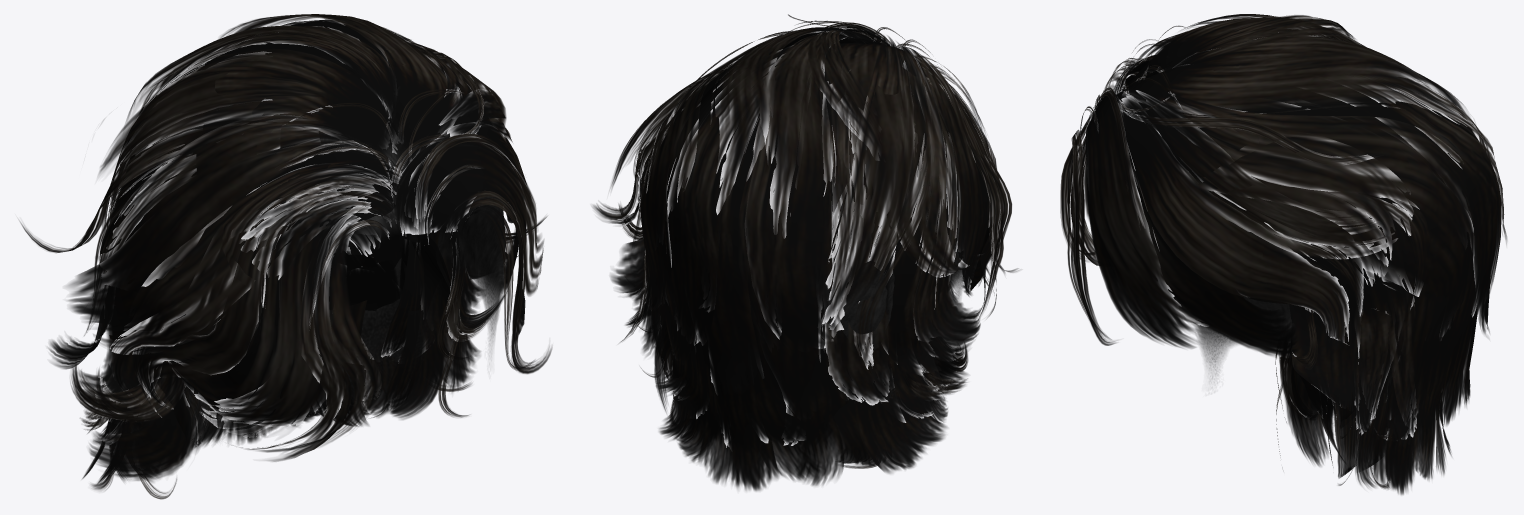
Rendered from layered-2.glb.
The picture shows the model from 3 angles, left to right: view 1: azimuth 30°, elevation 25°; view 2: azimuth 150°, elevation 25°; view 3: azimuth 270°, elevation 25°; orthographic projection. The views are drawn at different scales.
Visible parts, largest first — view 1: LAYERED, SCALP LAYERED; view 2: LAYERED, SCALP LAYERED; view 3: LAYERED, SCALP LAYERED.
Part boxes in pixels (x1,y1,x2,y2): LAYERED: [19, 14, 552, 499]; SCALP LAYERED: [111, 100, 505, 437]; LAYERED: [592, 14, 1018, 491]; SCALP LAYERED: [664, 91, 963, 351]; LAYERED: [1060, 14, 1506, 494]; SCALP LAYERED: [1193, 100, 1429, 423].
Size of the model in its own units: 0.3018 by 0.29 by 0.2677.
Materials: 2 (2 with a texture image).
